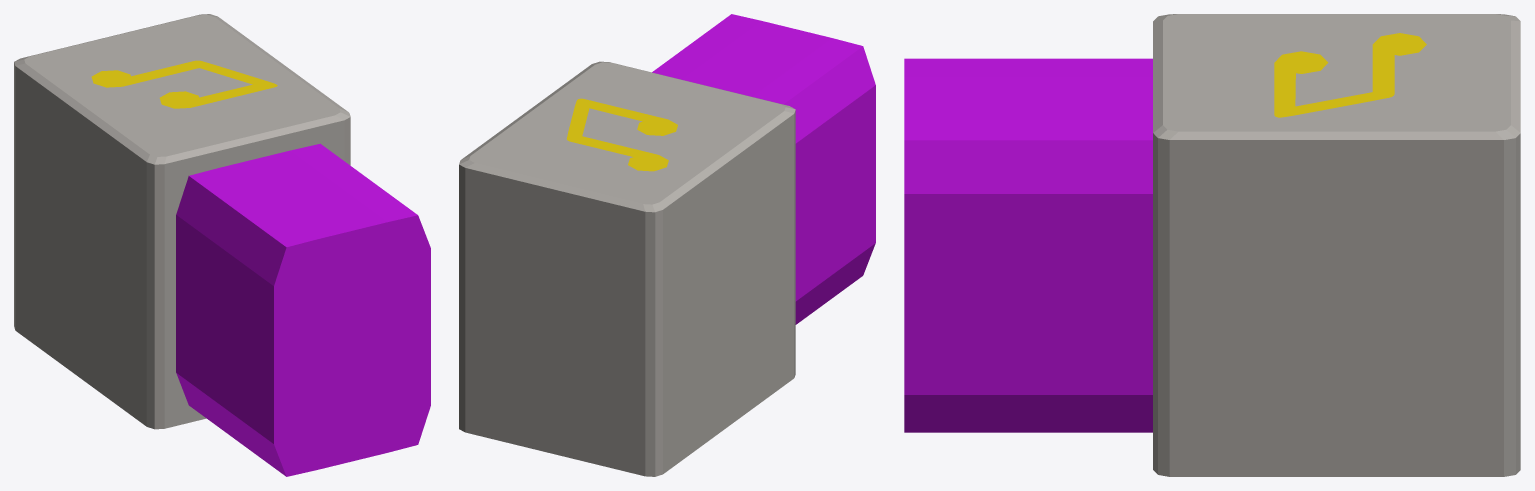
File: nella_platform_trap.fbx
The picture shows the model from 3 angles, left to right: view 1: azimuth 30°, elevation 25°; view 2: azimuth 150°, elevation 25°; view 3: azimuth 270°, elevation 25°; orthographic projection. The views are drawn at different scales.
Visible parts, largest first — view 1: nella_platform.003; view 2: nella_platform.003; view 3: nella_platform.003.
Part boxes in pixels (<box>): nella_platform.003: <box>14,14,430,476</box>; nella_platform.003: <box>459,14,875,476</box>; nella_platform.003: <box>904,14,1520,476</box>.
Size of the model in its own units: 9.22 by 11.66 by 19.08.
